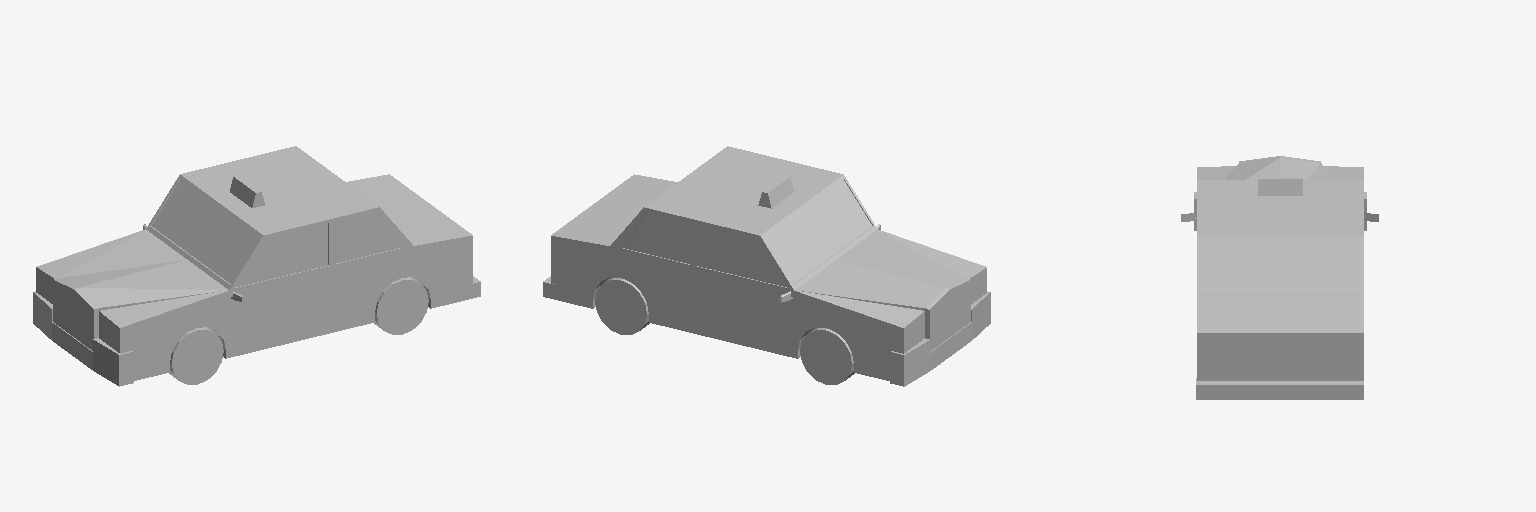
File: taxi.obj
3 views of the same model, side by side, from view 1: azimuth 30°, elevation 25°; view 2: azimuth 150°, elevation 25°; view 3: azimuth 270°, elevation 25° (orthographic).
Visible parts, largest first — view 1: CarBody, Wheel_RL, Wheel_FL; view 2: CarBody, Wheel_FR, Wheel_RR; view 3: CarBody.
Boxes of the visible parts, <box> form: CarBody: <box>33,146,480,386</box>; Wheel_RL: <box>374,277,428,334</box>; Wheel_FL: <box>169,327,223,384</box>; CarBody: <box>543,146,990,386</box>; Wheel_FR: <box>800,328,854,384</box>; Wheel_RR: <box>595,278,649,334</box>; CarBody: <box>1181,156,1378,399</box>.
Size of the model in its own units: 249 by 95.81 by 116.